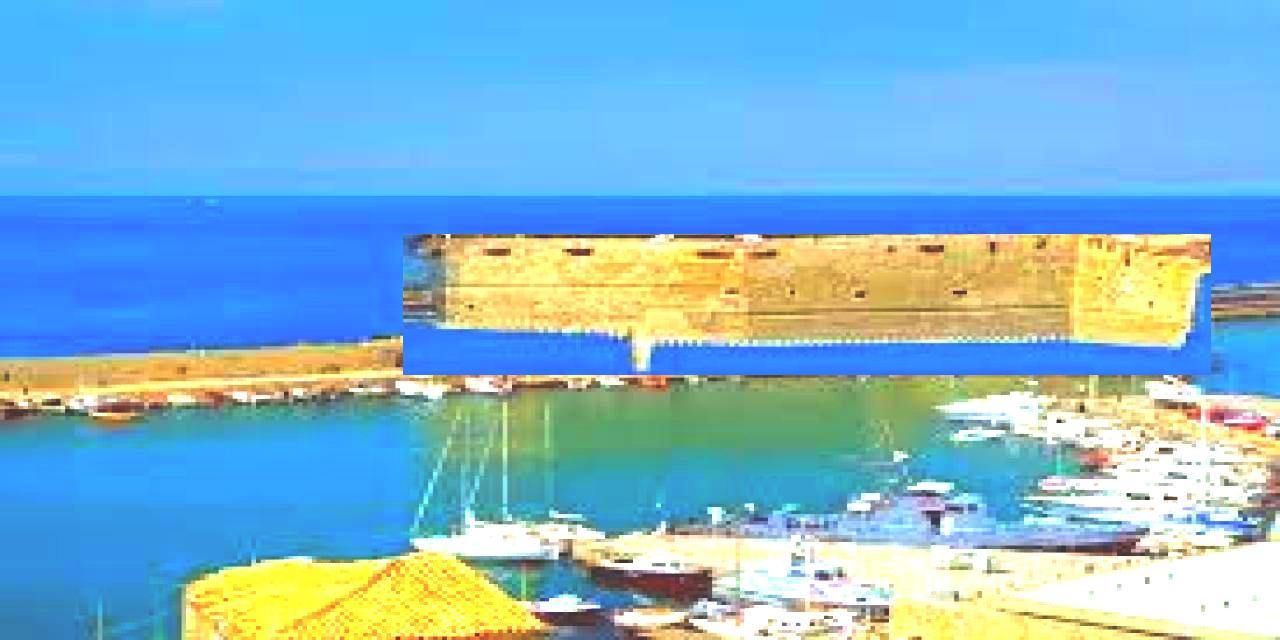Kules: (404, 235, 1212, 376)
